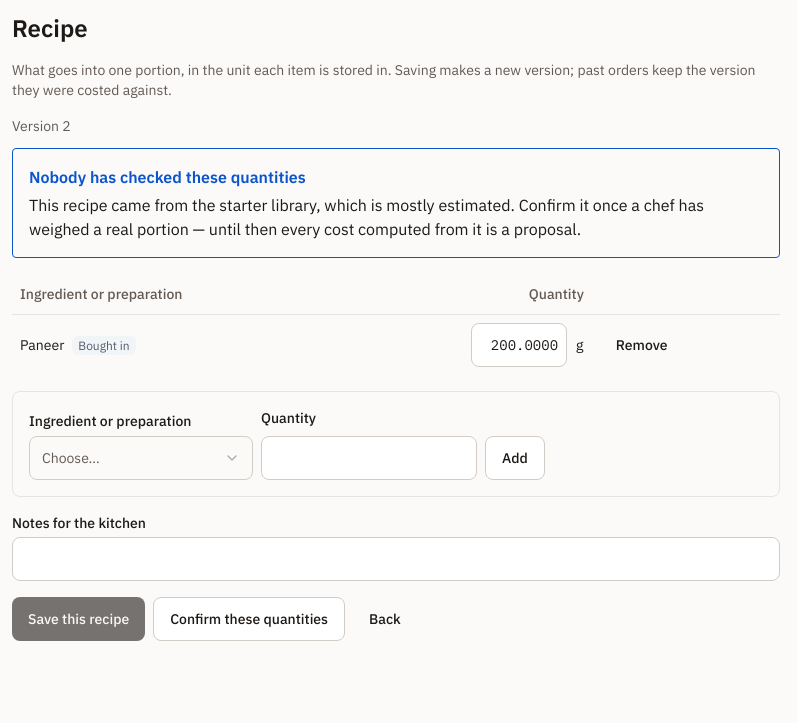
Test: leaving the recipe screen › asks before throwing away a change, rather than leaving silently
Replace the text in the field named "Quantity of Paneer" with "250" at (519, 344), box [471,322,567,366]
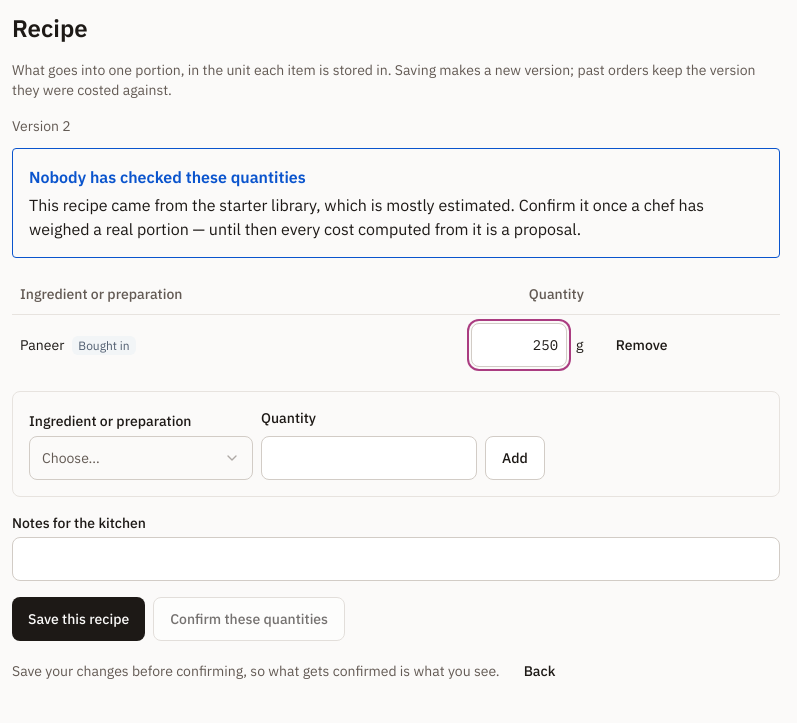
Click the button "Back".
click(539, 670)  # box [508,648,571,692]
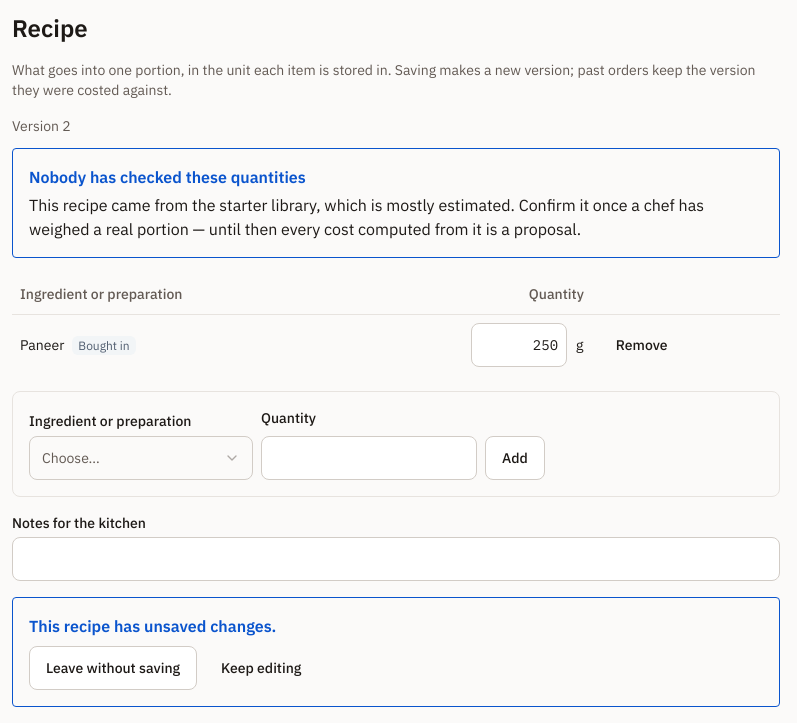
Expected: the text "This recipe has unsaved changes." is shown, [29,616,276,636]
Expected: the button "Keep editing" is shown, [205,646,317,690]
